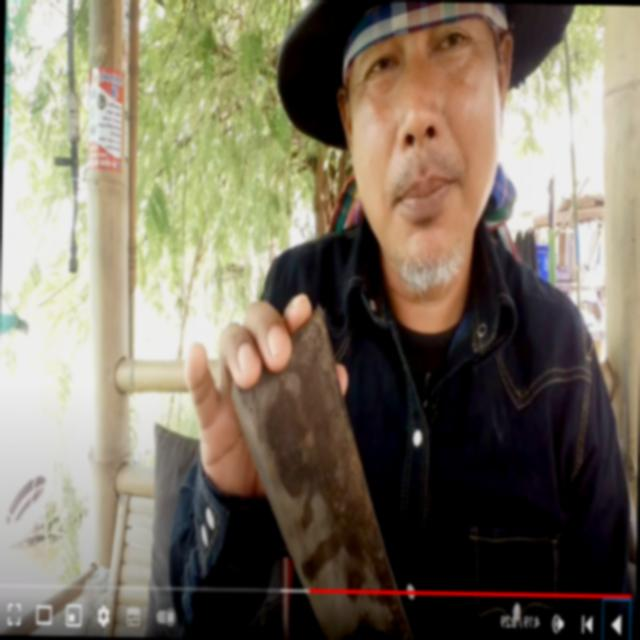eto: (230, 308, 418, 640)
